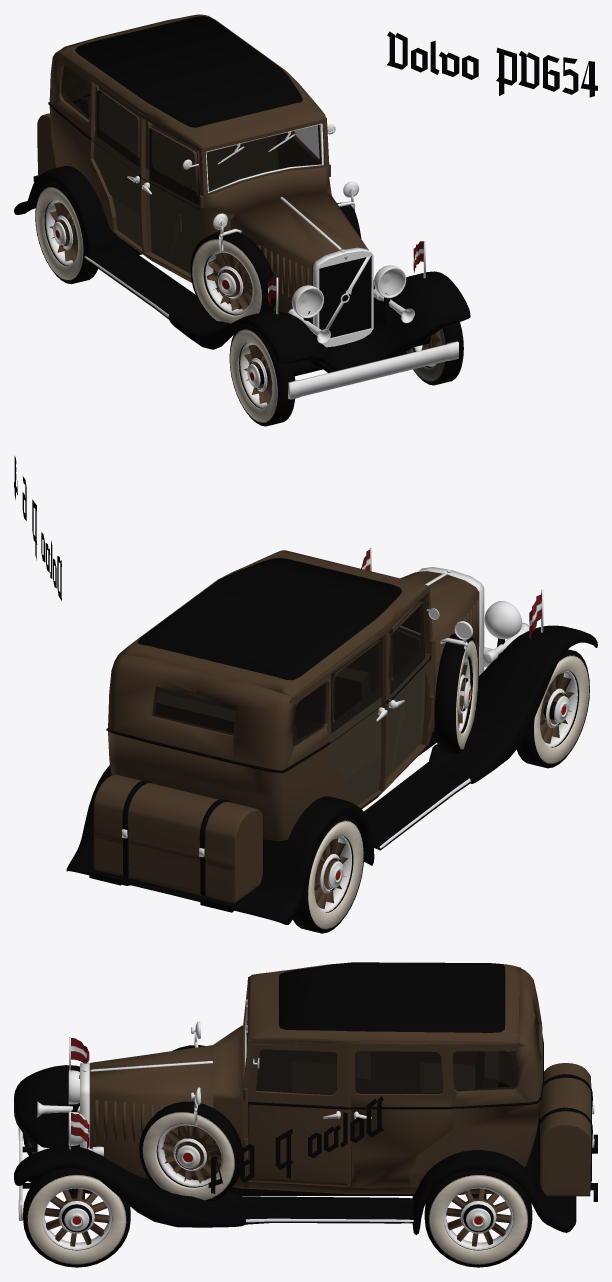
File: volvo-pv654-sedan.glb
3 views of the same model, one above another, from view 1: azimuth 30°, elevation 25°; view 2: azimuth 150°, elevation 25°; view 3: azimuth 270°, elevation 25° (orthographic). The views are drawn at different scales.
Parts seen in each view (by area): view 1: Plane.001, Cube.005, Cube.008, Cube.023, Cube.022, Cube.024, Cube.019, Cylinder.016, Cube.020, Cylinder.017, Text, Cube.015 (+9 smaller); view 2: Plane.001, Cube.005, Cube.032, Cube.008, Cube.015, Cube.024, Cube.023, Cylinder.017, Cylinder.016, Cube.022, Cube.020, Cube.021 (+3 smaller); view 3: Plane.001, Cube.005, Cube.008, Cube.016, Cube.017, Cylinder.009, Cube.022, Cylinder.015, Cube.032, Cube.015, Text, Cube.024 (+8 smaller).
Part boxes in pixels (x1,y1,x2,y2): Plane.001: [48, 19, 373, 347]; Cube.005: [58, 14, 325, 147]; Cube.008: [84, 243, 470, 370]; Cube.023: [140, 118, 201, 273]; Cube.022: [190, 181, 361, 323]; Cube.024: [90, 84, 141, 247]; Cube.019: [206, 123, 324, 192]; Cylinder.016: [229, 325, 295, 426]; Cube.020: [152, 135, 279, 262]; Cylinder.017: [35, 182, 97, 284]; Text: [387, 31, 597, 97]; Cube.015: [14, 166, 141, 269]; Plane.001: [106, 567, 484, 841]; Cube.005: [119, 550, 428, 697]; Cube.032: [93, 774, 262, 903]; Cube.008: [364, 625, 597, 850]; Cube.015: [66, 765, 374, 924]; Cube.024: [329, 637, 387, 805]; Cube.023: [386, 593, 431, 788]; Cylinder.017: [293, 815, 364, 933]; Cylinder.016: [516, 649, 589, 768]; Cube.022: [434, 621, 478, 753]; Cube.020: [221, 667, 404, 773]; Cube.021: [155, 692, 297, 742]; Plane.001: [80, 969, 543, 1193]; Cube.005: [247, 962, 521, 1044]; Cube.008: [14, 1065, 413, 1227]; Cube.016: [248, 1044, 347, 1186]; Cube.017: [351, 1047, 452, 1187]; Cylinder.009: [424, 1169, 532, 1267]; Cube.022: [139, 1021, 243, 1201]; Cylinder.015: [23, 1168, 130, 1267]; Cube.032: [537, 1063, 594, 1196]; Cube.015: [412, 1082, 576, 1234]; Text: [208, 1096, 383, 1193]; Cube.024: [368, 1051, 441, 1092].
Bounding box in the file's own units: 602 × 305 × 711.
15 materials, 2 textured.
